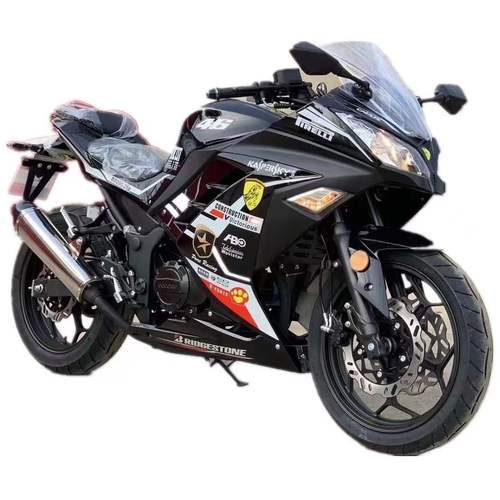摩托车: (3, 25, 494, 464)
